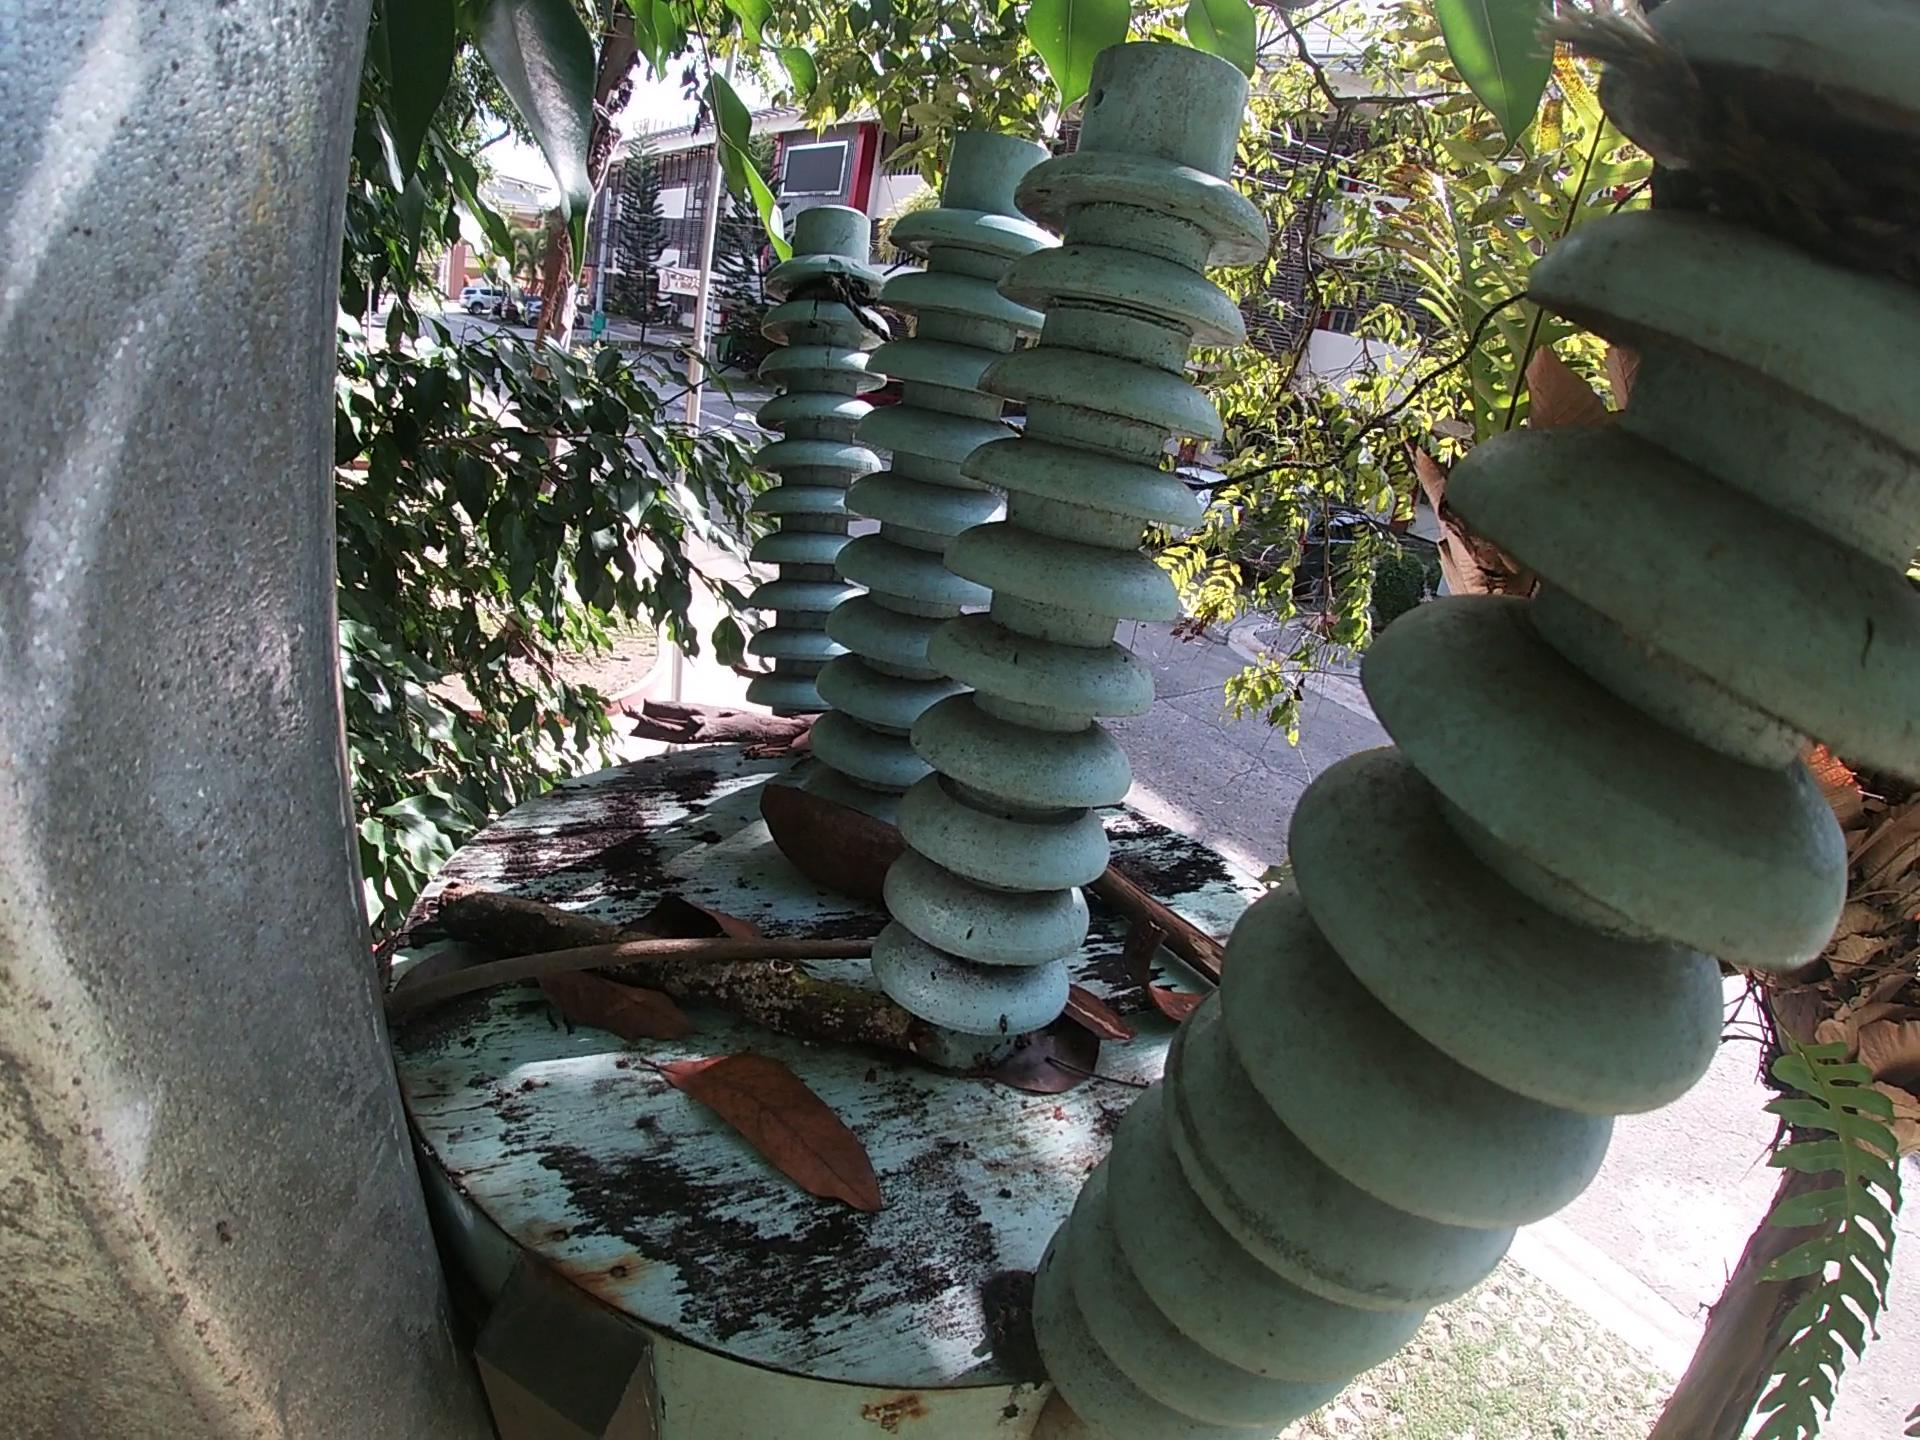leaf: (635, 1047, 897, 1219), (534, 968, 705, 1047), (960, 1027, 1111, 1100), (615, 902, 766, 936)
mahogany fruit: (759, 779, 907, 908), (1120, 903, 1203, 1032), (1058, 985, 1137, 1048)
tree branch: (437, 892, 916, 1053), (373, 936, 881, 1019), (1085, 861, 1234, 985), (612, 691, 822, 761)
